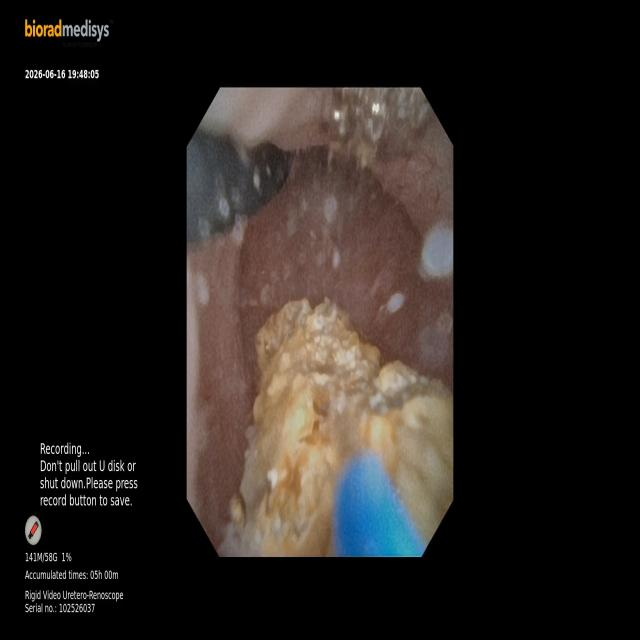laser-fibre: (331, 402, 366, 477)
stone-new: (219, 299, 453, 556)
